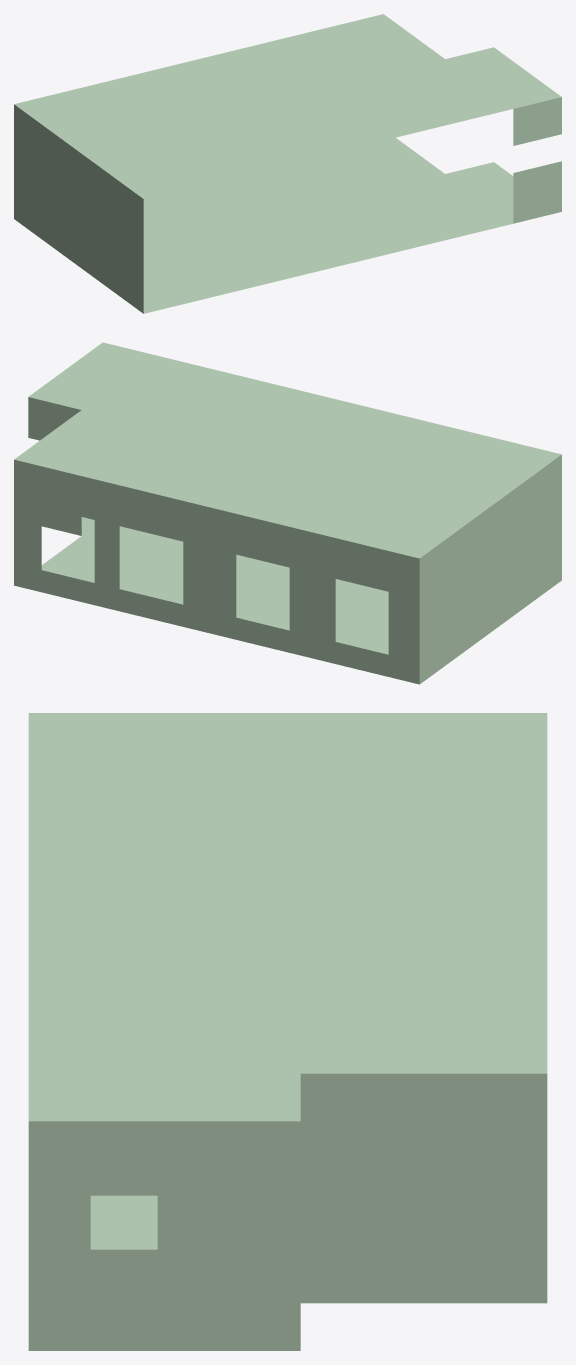
The model's file is threeBR.gltf.
The picture shows the model from 3 angles, top to bottom: view 1: azimuth 30°, elevation 25°; view 2: azimuth 150°, elevation 25°; view 3: azimuth 270°, elevation 25°; orthographic projection. The views are drawn at different scales.
Size of the model in its own units: 12.97 by 3.4 by 6.96.
